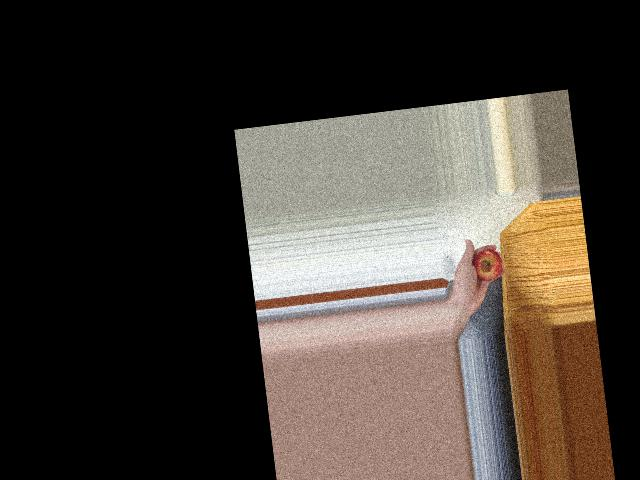apple: (469, 245, 504, 288)
